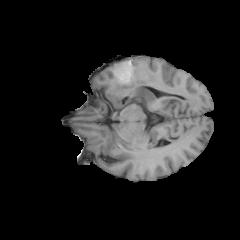glioma: (102, 57, 154, 107)
